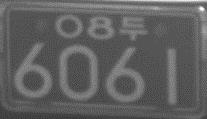0: (58, 44, 99, 101), (54, 14, 84, 38)
1: (153, 47, 189, 105)
6: (12, 41, 53, 99), (104, 46, 145, 104)
8: (86, 15, 114, 40)
두: (119, 16, 147, 41)
